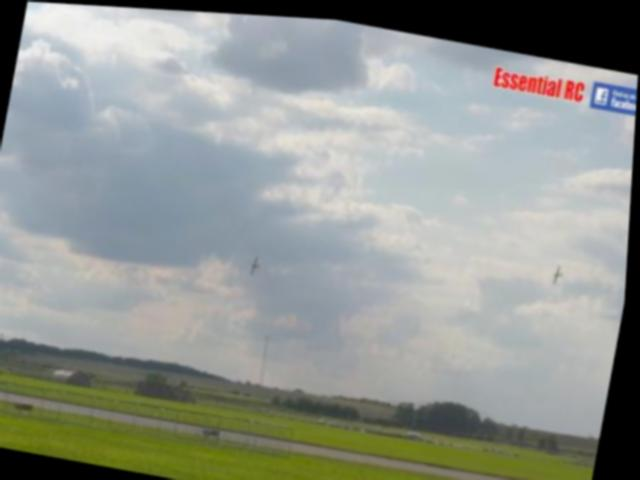uav: (549, 251, 573, 284), (245, 248, 269, 277)
